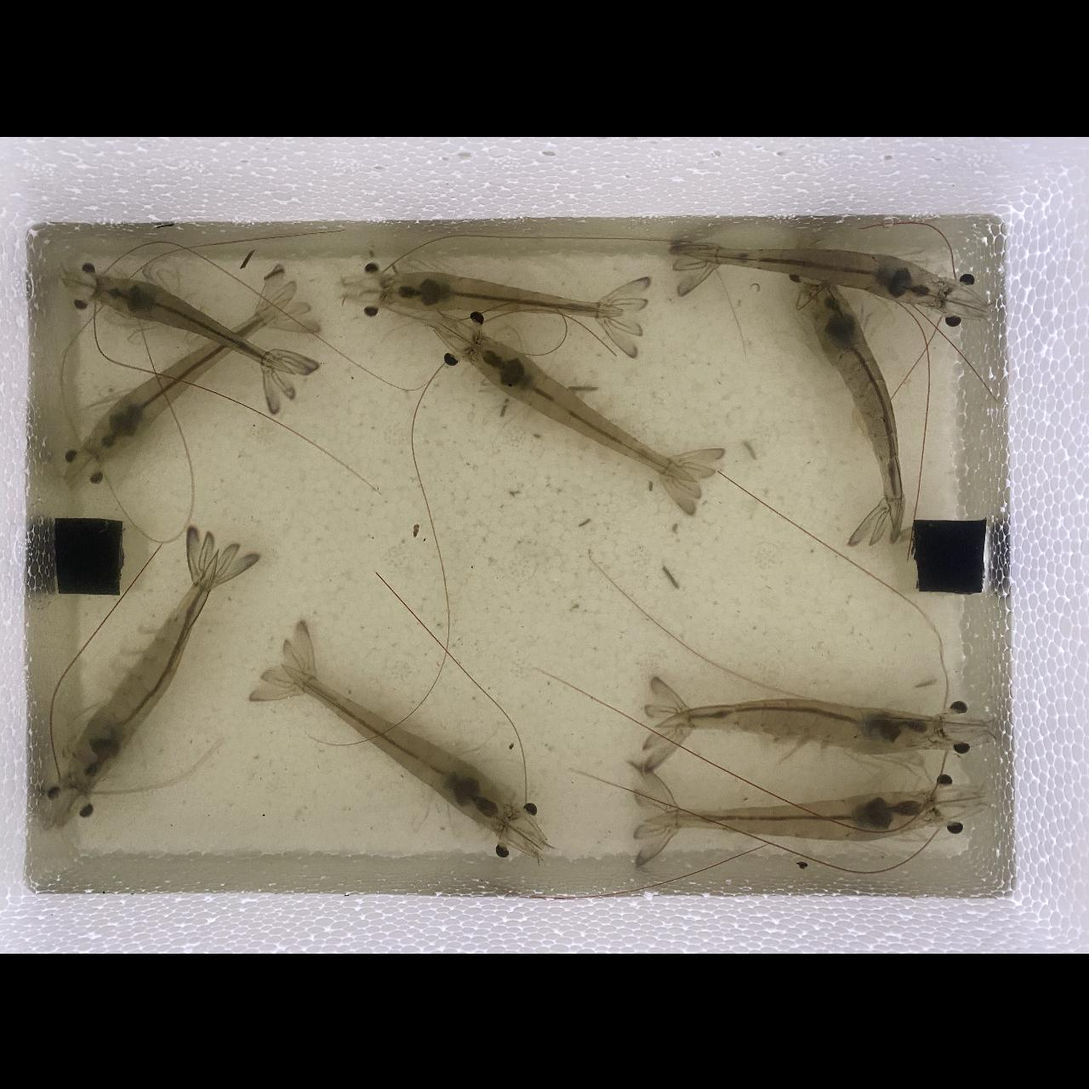box: (914, 519, 987, 590), (54, 519, 123, 594)
top_shrimp: (288, 665, 514, 829), (70, 562, 220, 788), (471, 337, 698, 480), (807, 284, 902, 534), (92, 339, 284, 458), (686, 247, 948, 305), (664, 698, 944, 752), (100, 277, 284, 356), (655, 790, 932, 839), (386, 272, 624, 316)
